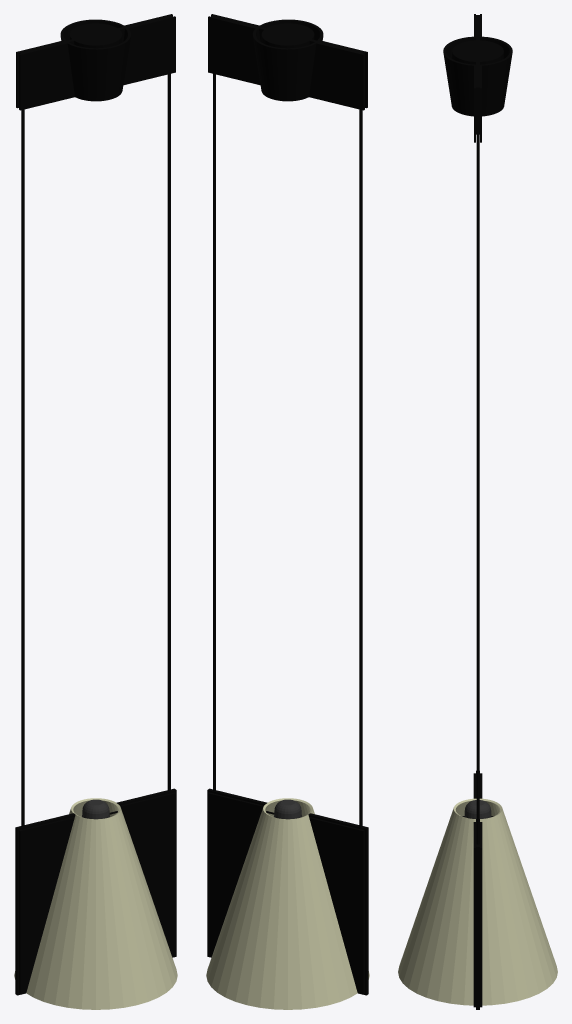
File: light.obj
The picture shows the model from 3 angles, left to right: view 1: azimuth 30°, elevation 25°; view 2: azimuth 150°, elevation 25°; view 3: azimuth 270°, elevation 25°; orthographic projection. The views are drawn at different scales.
Size of the model in its own units: 22.5 by 127 by 20.
